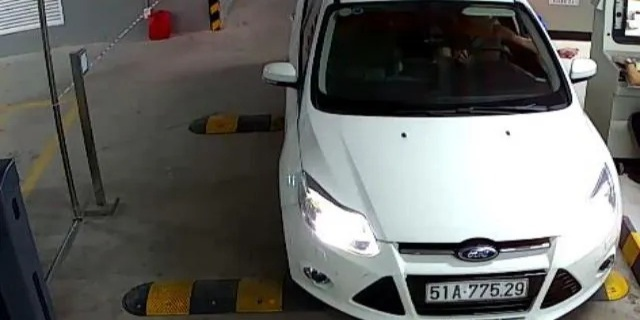bien_so: (427, 279, 528, 301)
